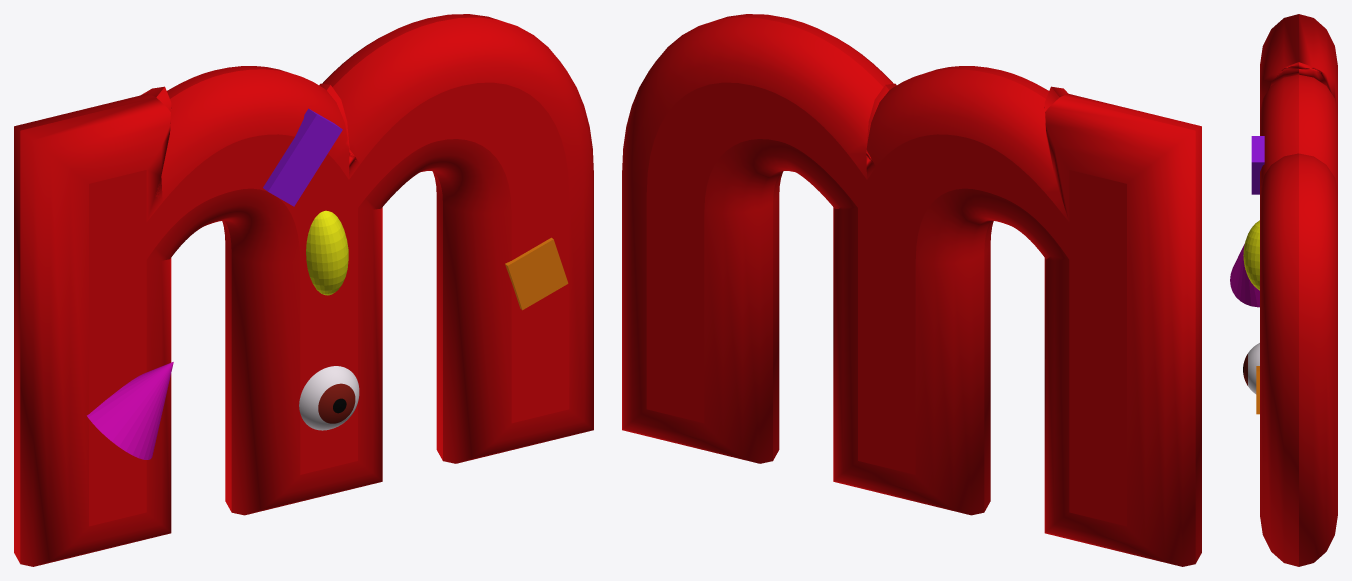
The model's file is m_red.fbx.
3 views of the same model, side by side, from view 1: azimuth 30°, elevation 25°; view 2: azimuth 150°, elevation 25°; view 3: azimuth 270°, elevation 25° (orthographic). The views are drawn at different scales.
Parts seen in each view (by area): view 1: Text, Cone, Cube.001, Sphere, Sphere.002, Cube; view 2: Text; view 3: Text, Cone, Sphere.002, Cube.001, Sphere, Cube.
Boxes of the visible parts, x1=… form: Text: x1=14, y1=14, x2=593, y2=566; Cone: x1=87, y1=362, x2=173, y2=459; Cube.001: x1=263, y1=108, x2=342, y2=206; Sphere: x1=299, y1=366, x2=359, y2=430; Sphere.002: x1=306, y1=210, x2=348, y2=295; Cube: x1=505, y1=237, x2=568, y2=310; Text: x1=622, y1=14, x2=1201, y2=566; Text: x1=1260, y1=14, x2=1337, y2=566; Cone: x1=1230, y1=243, x2=1259, y2=307; Sphere.002: x1=1243, y1=220, x2=1259, y2=290; Cube.001: x1=1251, y1=136, x2=1264, y2=194; Sphere: x1=1243, y1=343, x2=1259, y2=394; Cube: x1=1256, y1=366, x2=1259, y2=414.
Size of the model in its own units: 75.7 by 56.42 by 16.03.
